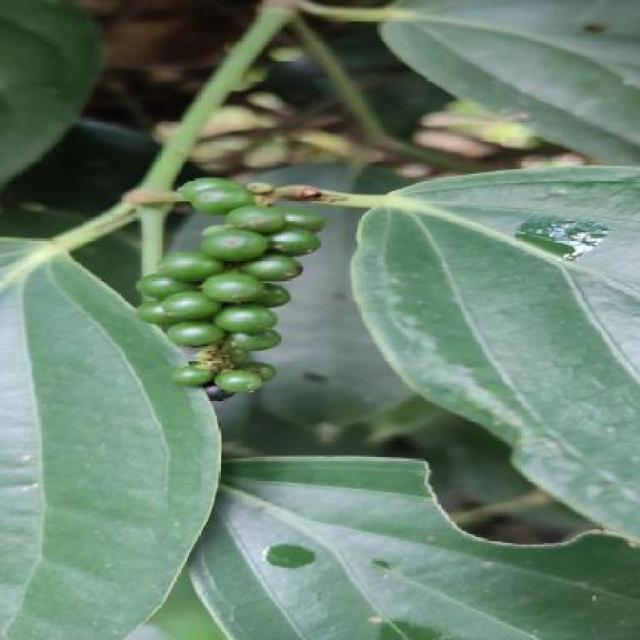UNRIPE: (134, 177, 321, 391)
